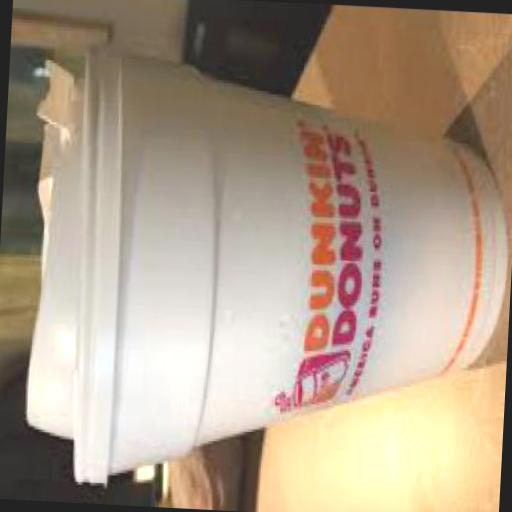paper: (75, 55, 512, 502)
